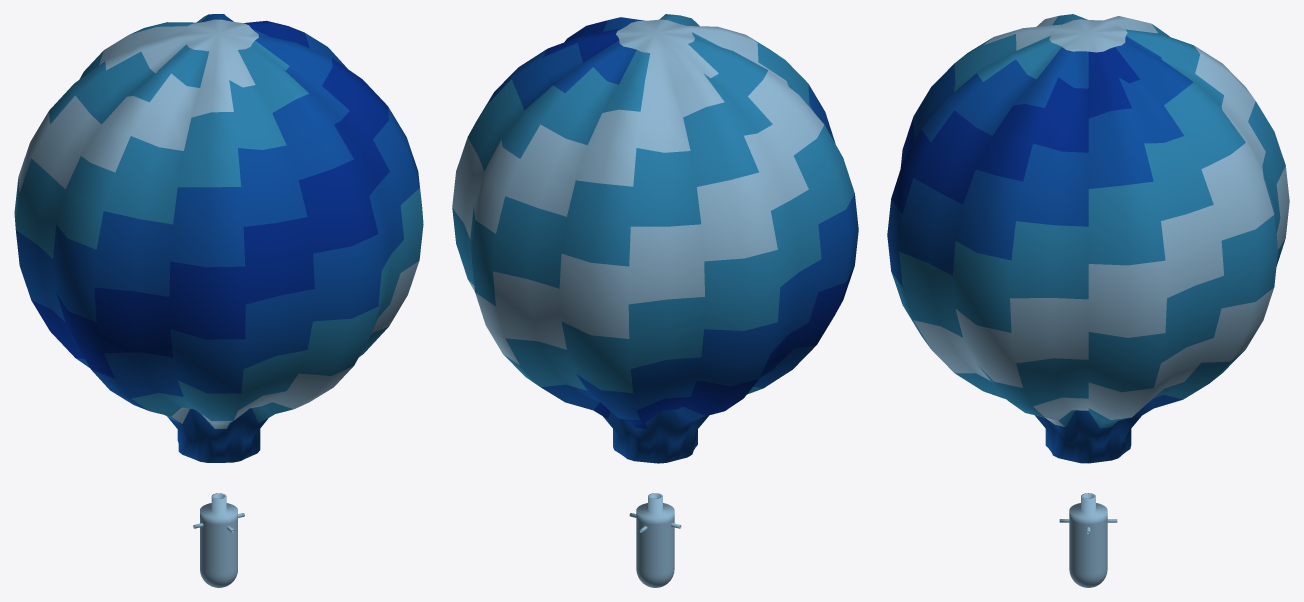
File: gondola.glb
3 views of the same model, side by side, from view 1: azimuth 30°, elevation 25°; view 2: azimuth 150°, elevation 25°; view 3: azimuth 270°, elevation 25° (orthographic).
Parts seen in each view (by area): view 1: Envelope, Sphere; view 2: Envelope, Sphere; view 3: Envelope, Sphere.
Part boxes in pixels (bbox=[...]): Envelope: bbox=[14, 14, 423, 462]; Sphere: bbox=[200, 493, 237, 573]; Envelope: bbox=[452, 14, 858, 463]; Sphere: bbox=[636, 493, 674, 573]; Envelope: bbox=[887, 14, 1289, 463]; Sphere: bbox=[1069, 493, 1107, 573].
Bounding box in the file's own units: 20.97 × 31.84 × 20.97.
